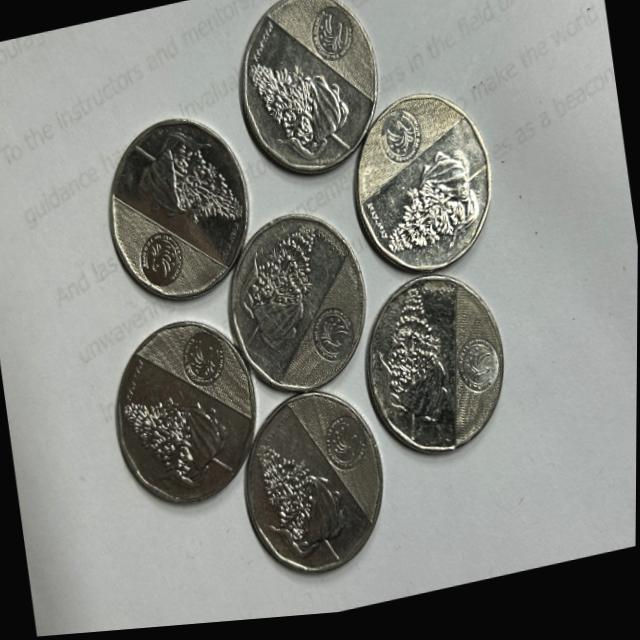10_New_Back: (228, 214, 345, 383), (356, 276, 468, 448), (130, 110, 248, 260), (369, 142, 490, 288), (104, 370, 233, 496), (255, 33, 347, 177), (248, 427, 335, 563)
